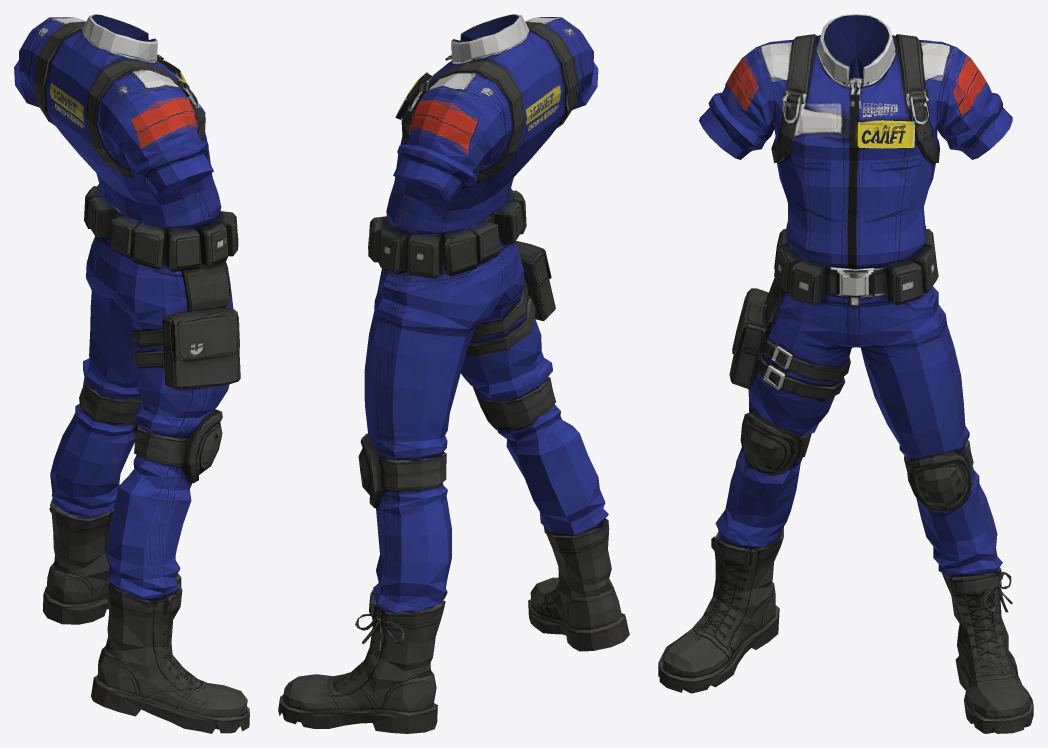
Rendered from roupa_cadete.glb.
3 renders of one model, left to right at view 1: azimuth 30°, elevation 25°; view 2: azimuth 150°, elevation 25°; view 3: azimuth 270°, elevation 25°, orthographic. The views are drawn at different scales.
Parts seen in each view (by area): view 1: tripo_node_2bdb6712-b53c-465f-b7d5-da053008fa17; view 2: tripo_node_2bdb6712-b53c-465f-b7d5-da053008fa17; view 3: tripo_node_2bdb6712-b53c-465f-b7d5-da053008fa17.
Boxes of the visible parts, x1,y1,x2,y2 form: tripo_node_2bdb6712-b53c-465f-b7d5-da053008fa17: (14,14,249,733); tripo_node_2bdb6712-b53c-465f-b7d5-da053008fa17: (278,14,629,733); tripo_node_2bdb6712-b53c-465f-b7d5-da053008fa17: (658,14,1033,733).
Size of the model in its own units: 0.334 by 0.998 by 0.5254.
Materials: 1 (1 with a texture image).
